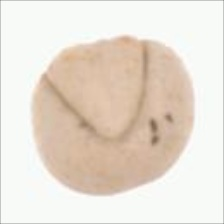L5: (39, 33, 152, 146)
L6: (28, 34, 197, 198)
